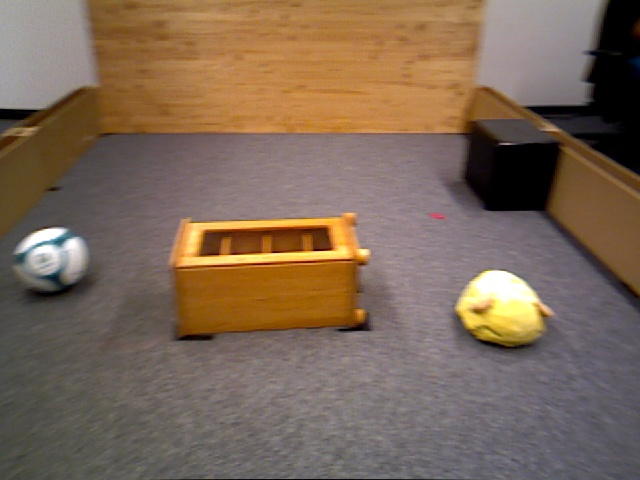grasp: (454, 268, 548, 348)
kick: (12, 227, 90, 295)
push: (463, 120, 561, 211)
